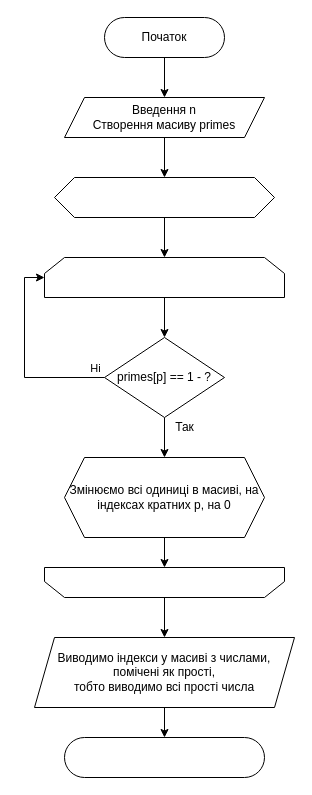
Image size: 312x795. Some labels were removed from this diagram. Each missing label, with the centre of its shape:
Для цілого p, де p*p<=n додаємо 1: (x=164, y=277)
Заповнення масиву одиницями: (x=164, y=197)
Кінець: (x=164, y=757)
